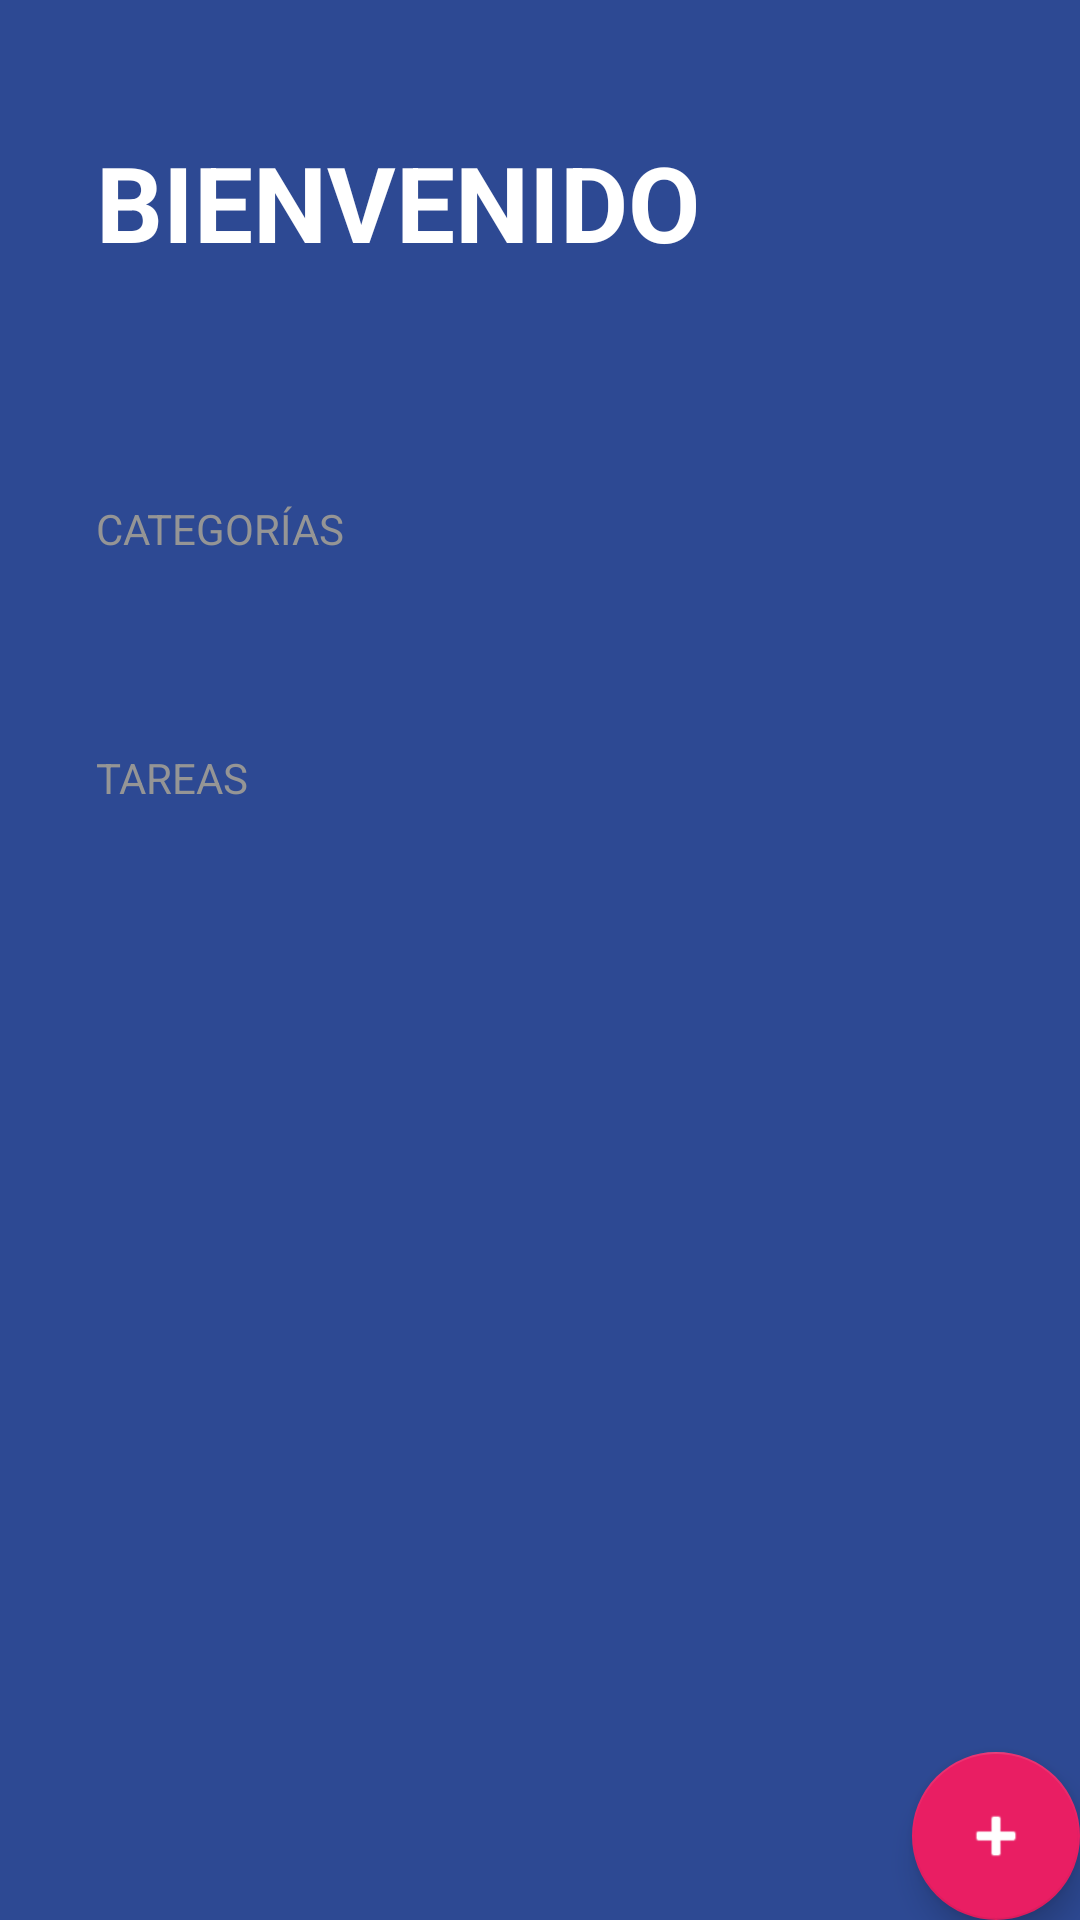

Screen size 1080×1920. Icon name, then its box in pixels as (x1=x1, y1=y1, x2=x2, y2=y2):
Adicionar: (x1=912, y1=1752, x2=1080, y2=1920)
